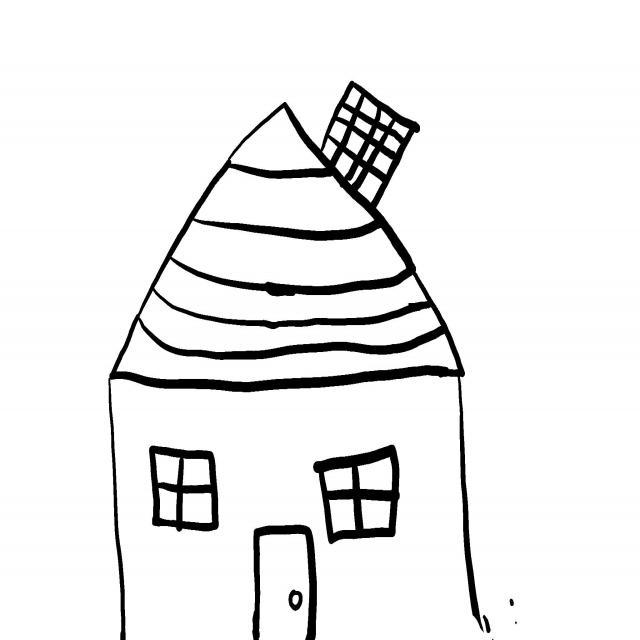chimney: (322, 81, 421, 206)
door: (253, 526, 317, 640)
house: (109, 82, 488, 640)
roof: (112, 104, 463, 390)
wall: (103, 371, 483, 640)
window: (315, 446, 400, 544), (149, 447, 219, 532)
